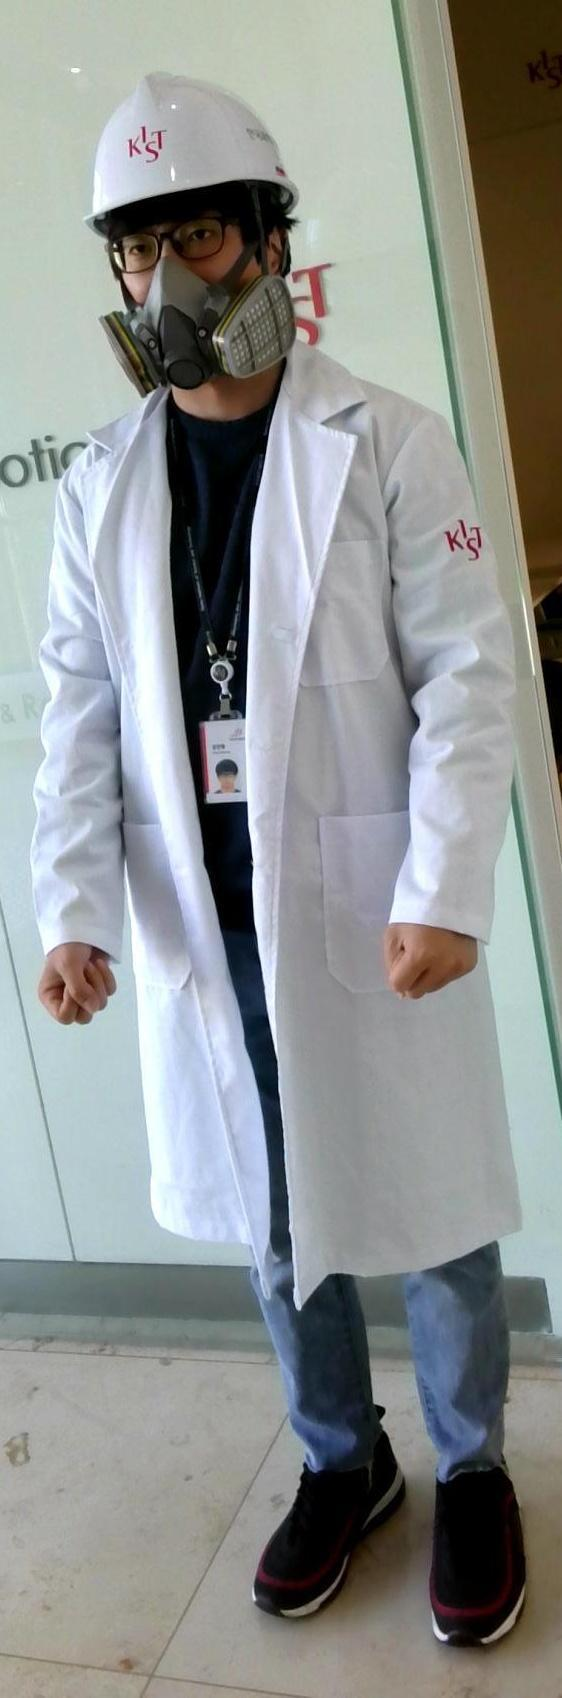lab_coat: (97, 404, 397, 1251)
